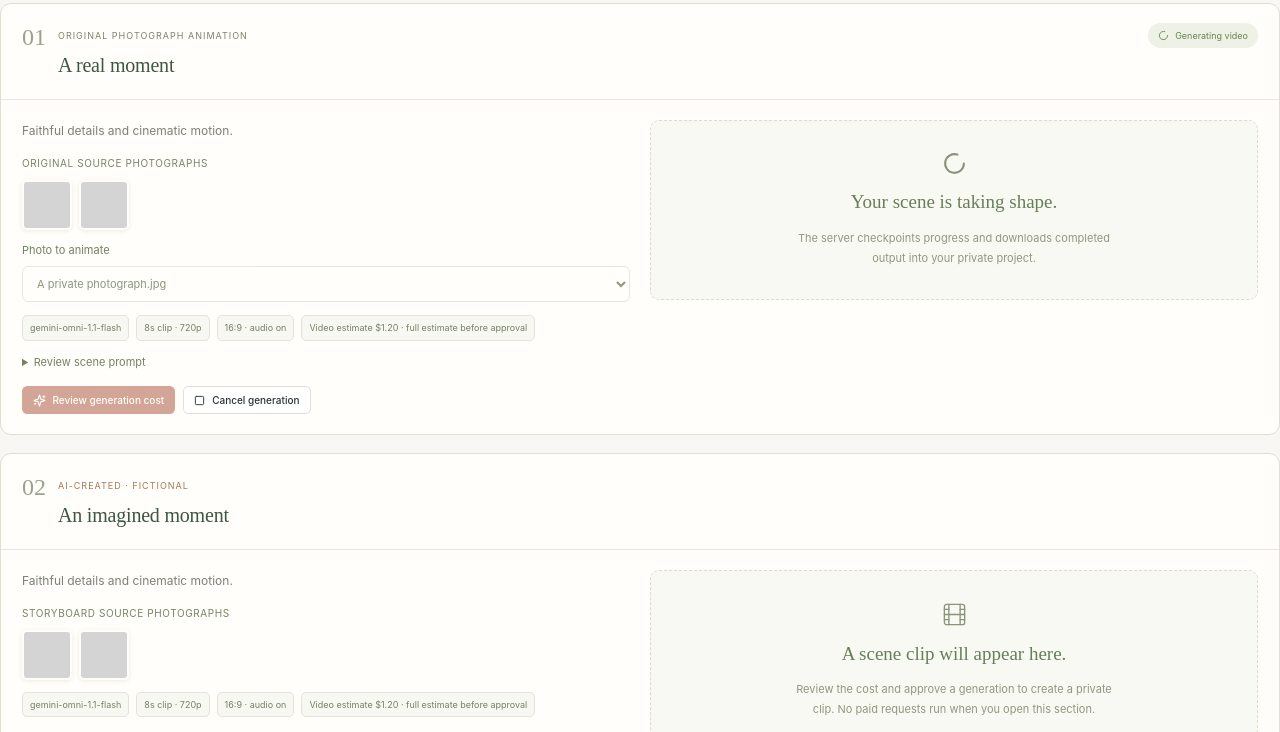
it: private paid scene generation › cancels pending work and reports when an accepted operation may still incur charges
The width and height of the screenshot is (1280, 732).
(page scrolled)
Click the button "Cancel generation" at (247, 400), box x1=183 y1=386 x2=311 y2=414
(page scrolled)
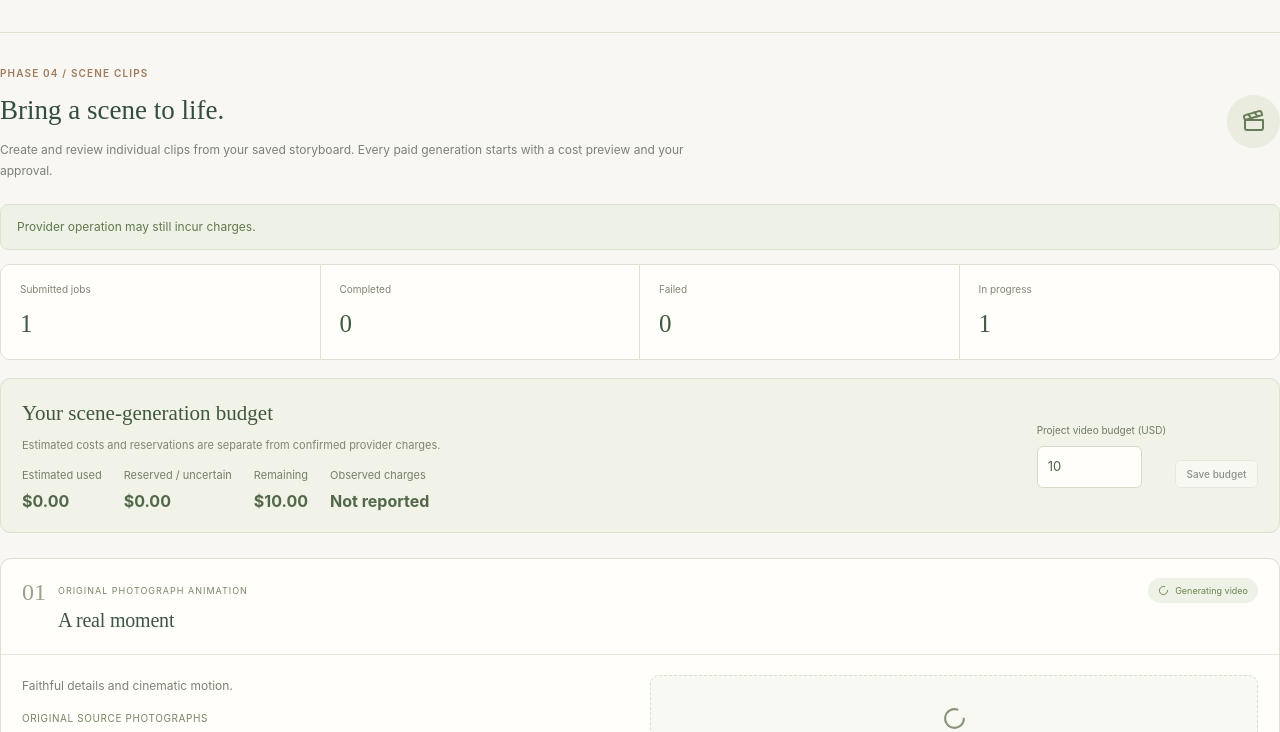
Expected: the text "Provider operation may still incur charges." is shown, x1=0 y1=204 x2=1279 y2=250
